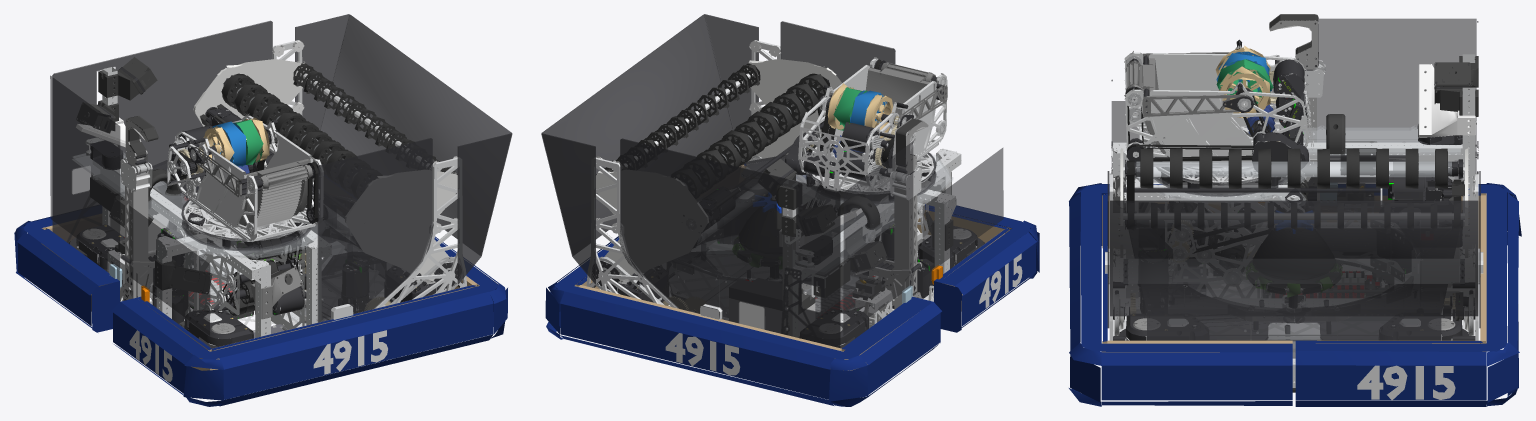
Rendered from artemis.glb.
3 views of the same model, side by side, from view 1: azimuth 30°, elevation 25°; view 2: azimuth 150°, elevation 25°; view 3: azimuth 270°, elevation 25° (orthographic). The views are drawn at different scales.
Parts seen in each view (by area): view 1: chassis__069, chassis__081, hopper_ext__080, chassis__000, intake_arm__085, chassis__001, turret__011, roller_intake_arm_02__048, Intake Hopper Side Wall Right (approx.), chassis__075, chassis__073, roller_intake_arm_01__044 (+22 smaller); view 2: chassis__069, chassis__081, hopper_ext__080, chassis__000, intake_arm__085, chassis__001, turret__011, roller_intake_arm_02__048, Intake Hopper Side Wall Left (approx.), roller_intake_arm_01__044, chassis__034, chassis__071 (+21 smaller); view 3: hopper_ext__080, chassis__081, chassis__069, chassis__000, turret__011, roller_intake_arm_02__048, chassis__001, chassis__075, turret__002, roller_intake_arm_02__097, chassis__073, chassis__094 (+25 smaller).
Boxes of the visible parts, box(x1,y1,x2,y2) form: chassis__069: box(50, 20, 432, 335); chassis__081: box(14, 216, 507, 406); hopper_ext__080: box(320, 14, 511, 254); chassis__000: box(89, 40, 466, 337); intake_arm__085: box(193, 59, 457, 282); chassis__001: box(68, 67, 462, 348); turret__011: box(167, 113, 323, 241); roller_intake_arm_02__048: box(221, 73, 382, 198); Intake Hopper Side Wall Right (approx.): box(457, 133, 512, 284); chassis__075: box(72, 152, 322, 324); chassis__073: box(97, 69, 212, 300); roller_intake_arm_01__044: box(293, 63, 457, 174); chassis__069: box(620, 21, 1003, 347); chassis__081: box(545, 163, 1039, 406); hopper_ext__080: box(542, 14, 732, 254); chassis__000: box(586, 40, 961, 337); intake_arm__085: box(596, 59, 841, 282); chassis__001: box(590, 163, 985, 348); turret__011: box(798, 57, 947, 191); roller_intake_arm_02__048: box(671, 73, 831, 198); Intake Hopper Side Wall Left (approx.): box(541, 133, 595, 284); roller_intake_arm_01__044: box(596, 63, 760, 174); chassis__034: box(758, 158, 887, 311); chassis__071: box(863, 181, 922, 327); hopper_ext__080: box(1110, 200, 1478, 316); chassis__081: box(1069, 183, 1521, 406); chassis__069: box(1111, 18, 1478, 358); chassis__000: box(1105, 54, 1483, 387); turret__011: box(1124, 45, 1313, 181); roller_intake_arm_02__048: box(1140, 148, 1447, 188); chassis__001: box(1113, 52, 1475, 340); chassis__075: box(1135, 126, 1460, 358); turret__002: box(1125, 39, 1308, 175); roller_intake_arm_02__097: box(1136, 161, 1451, 176); chassis__073: box(1198, 56, 1478, 182); chassis__094: box(1418, 64, 1475, 137).
Size of the model in its own units: 0.8595 by 0.5537 by 0.89.
